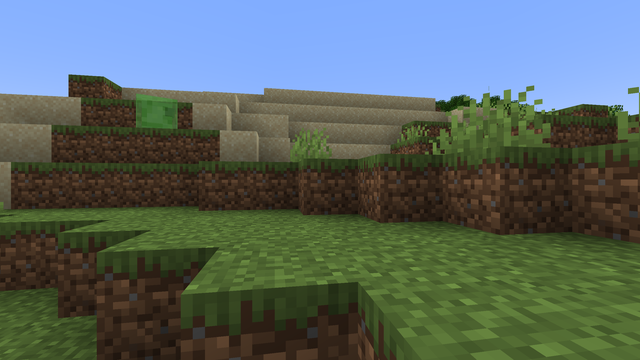slimes: (128, 93, 175, 127)
